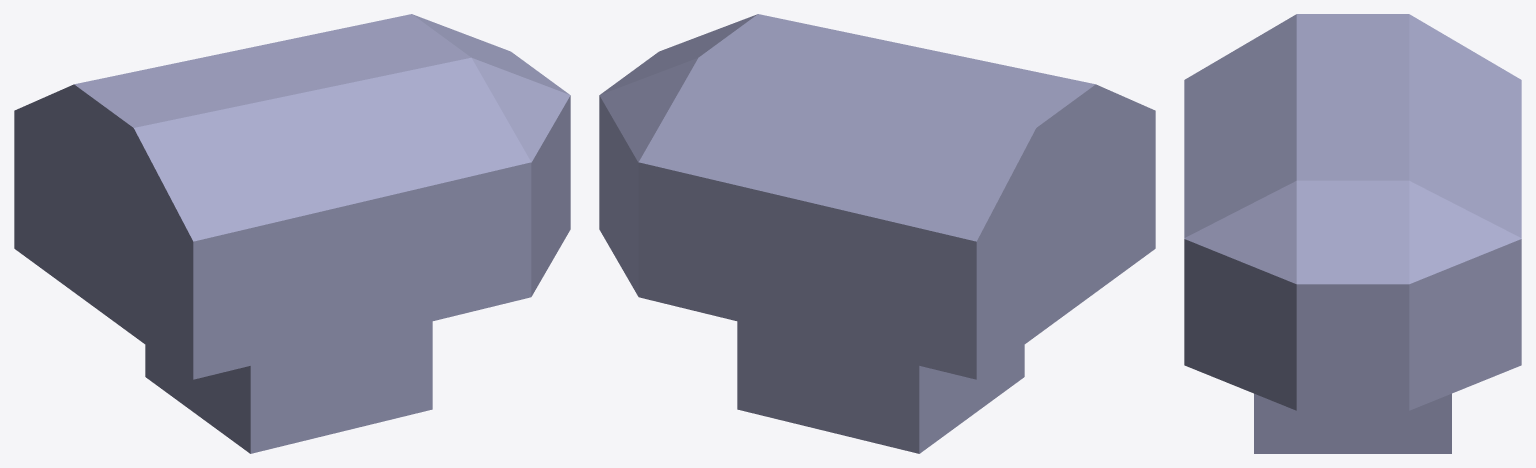
3 renders of one model, left to right at view 1: azimuth 30°, elevation 25°; view 2: azimuth 150°, elevation 25°; view 3: azimuth 270°, elevation 25°, orthographic. The views are drawn at different scales.
Visible parts, largest first — view 1: Cube.001; view 2: Cube.001; view 3: Cube.001.
Boxes of the visible parts, x1=… form: Cube.001: x1=14, y1=14, x2=570, y2=453; Cube.001: x1=599, y1=14, x2=1155, y2=453; Cube.001: x1=1184, y1=14, x2=1521, y2=453.
Size of the model in its own units: 208 by 151 by 148.
